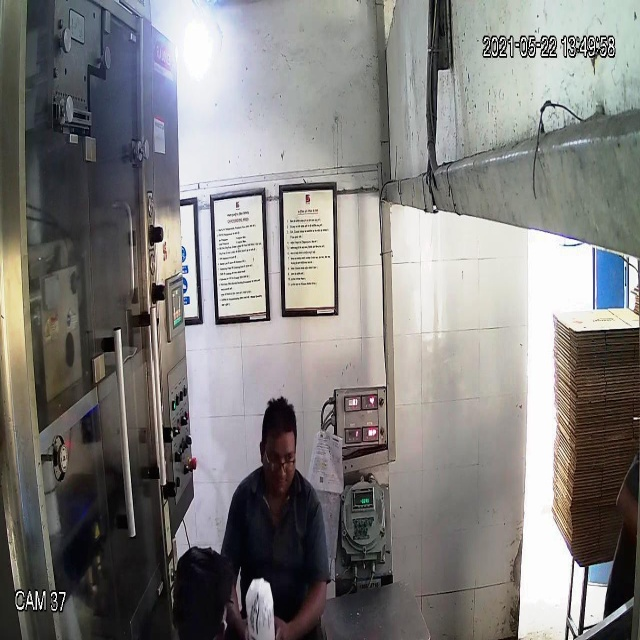Gafas: (255, 441, 298, 477)
